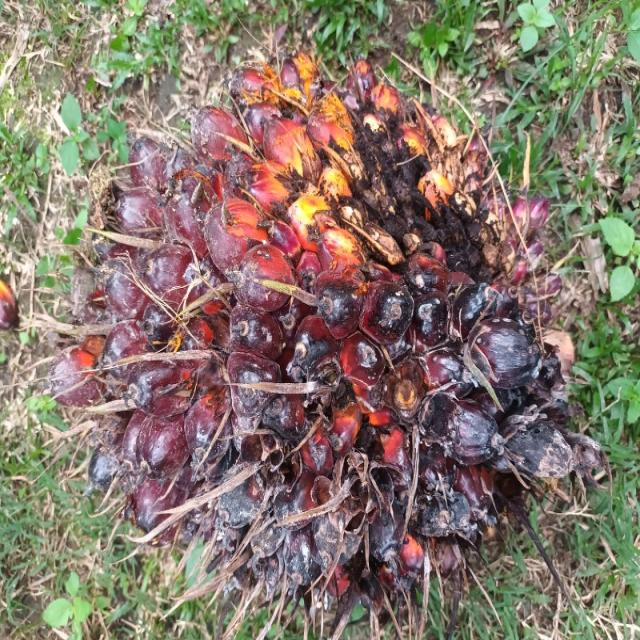fraksi 1: (35, 74, 457, 640)
